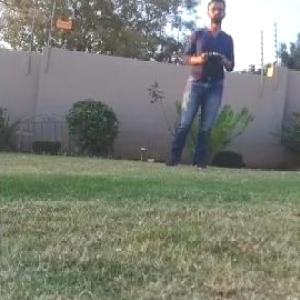follow: (158, 0, 241, 174)
